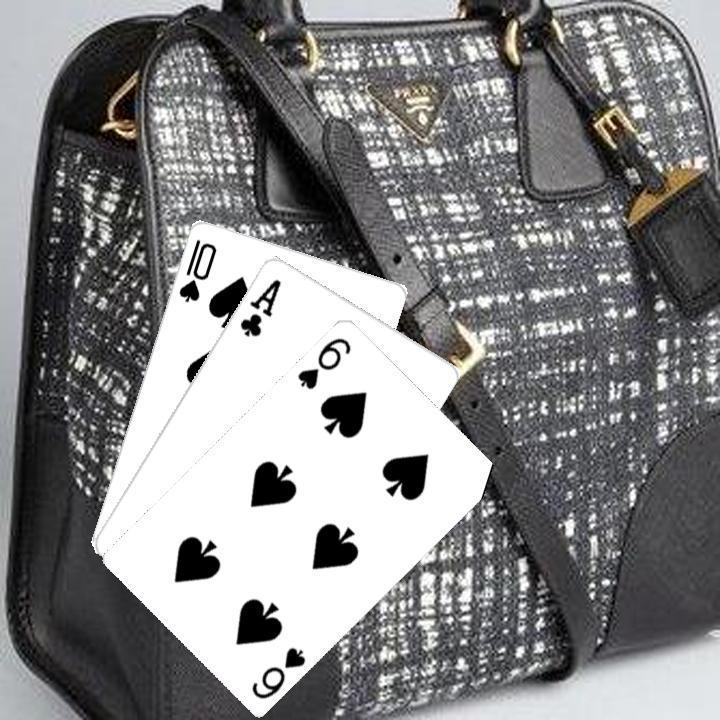10: (174, 234, 219, 304)
6: (247, 642, 308, 701), (293, 332, 353, 391)
A: (235, 274, 284, 338)
